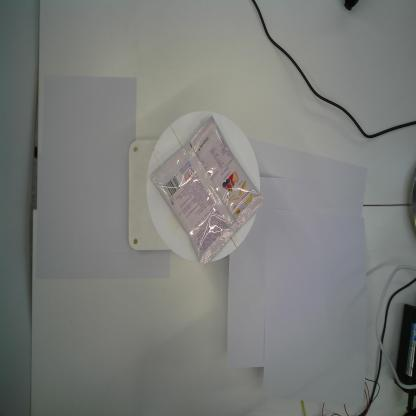Instant Drink: (150, 114, 265, 271)
